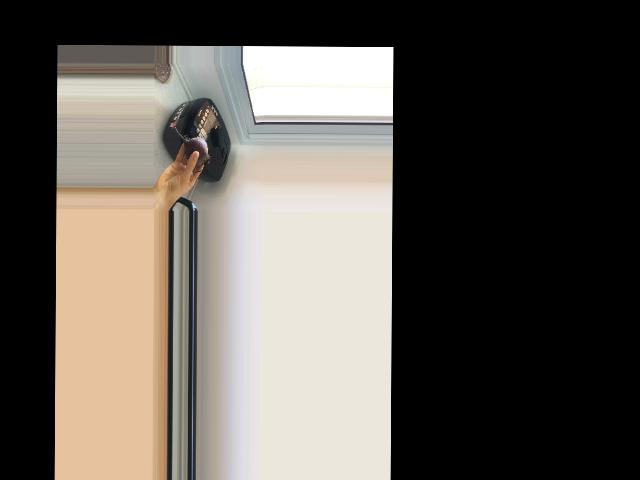beet: (174, 126, 210, 171)
